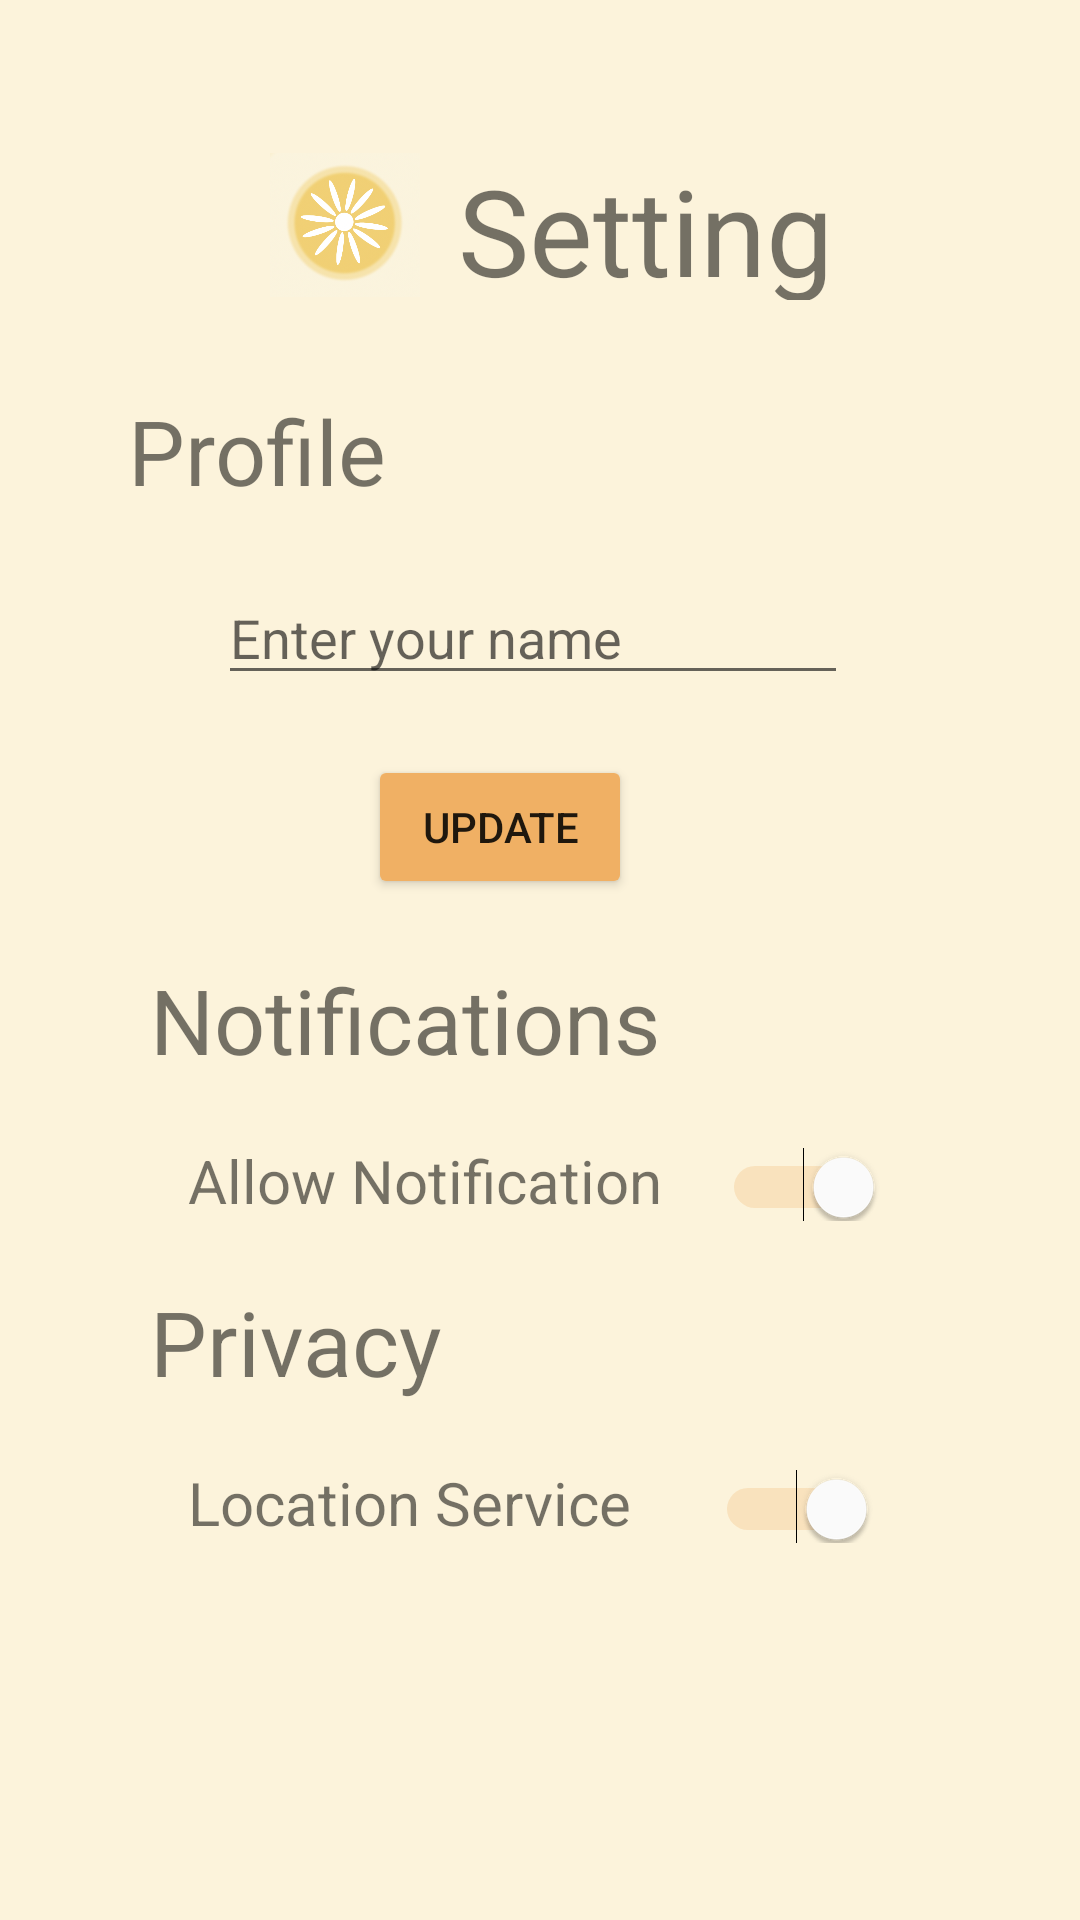

Screen size 1080px x 1920px. Icon name, then its center in pixels as (x=x, y=y):
sun: (x=345, y=223)
